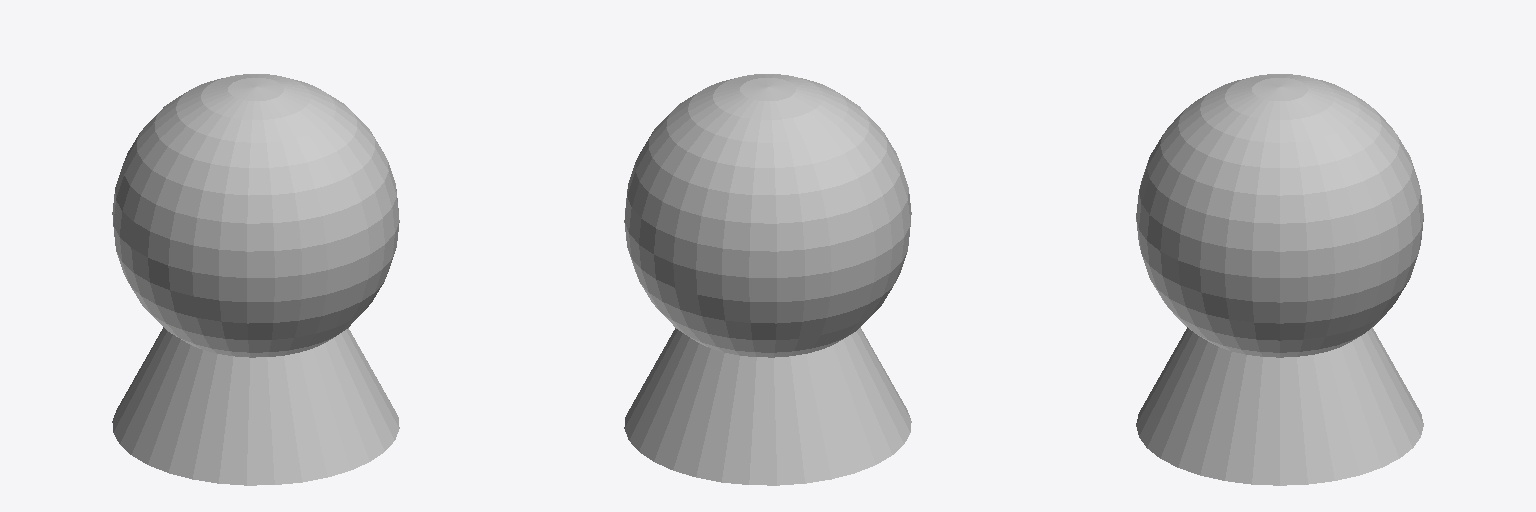
The model's file is sensor.obj.
3 renders of one model, left to right at view 1: azimuth 30°, elevation 25°; view 2: azimuth 150°, elevation 25°; view 3: azimuth 270°, elevation 25°, orthographic.
Parts seen in each view (by area): view 1: 球; view 2: 球; view 3: 球.
Part boxes in pixels (left/top/right/bottom): 球: left=112, top=74, right=399, bottom=485; 球: left=624, top=74, right=911, bottom=485; 球: left=1136, top=74, right=1423, bottom=485.
Size of the model in its own units: 2 by 2.59 by 2.